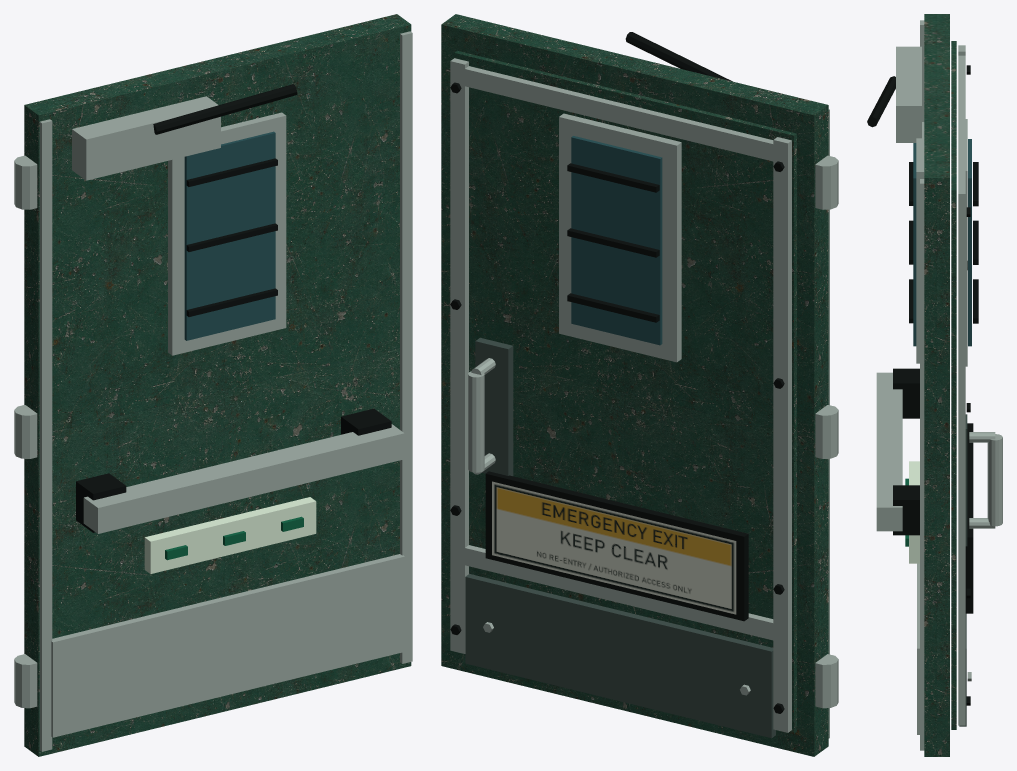
Rendered from EmergencyExitDoor.obj.
3 renders of one model, left to right at view 1: azimuth 30°, elevation 25°; view 2: azimuth 150°, elevation 25°; view 3: azimuth 270°, elevation 25°, orthographic. The views are drawn at different scales.
Parts seen in each view (by area): view 1: EmergencyExitDoor; view 2: EmergencyExitDoor; view 3: EmergencyExitDoor.
Part boxes in pixels (x1=…): EmergencyExitDoor: x1=14, y1=14, x2=412, y2=756; EmergencyExitDoor: x1=441, y1=14, x2=838, y2=756; EmergencyExitDoor: x1=867, y1=14, x2=1002, y2=756.
Bounding box in the file's own units: 1.88 × 2.96 × 0.6297.
Materials: 8 (2 with a texture image).
